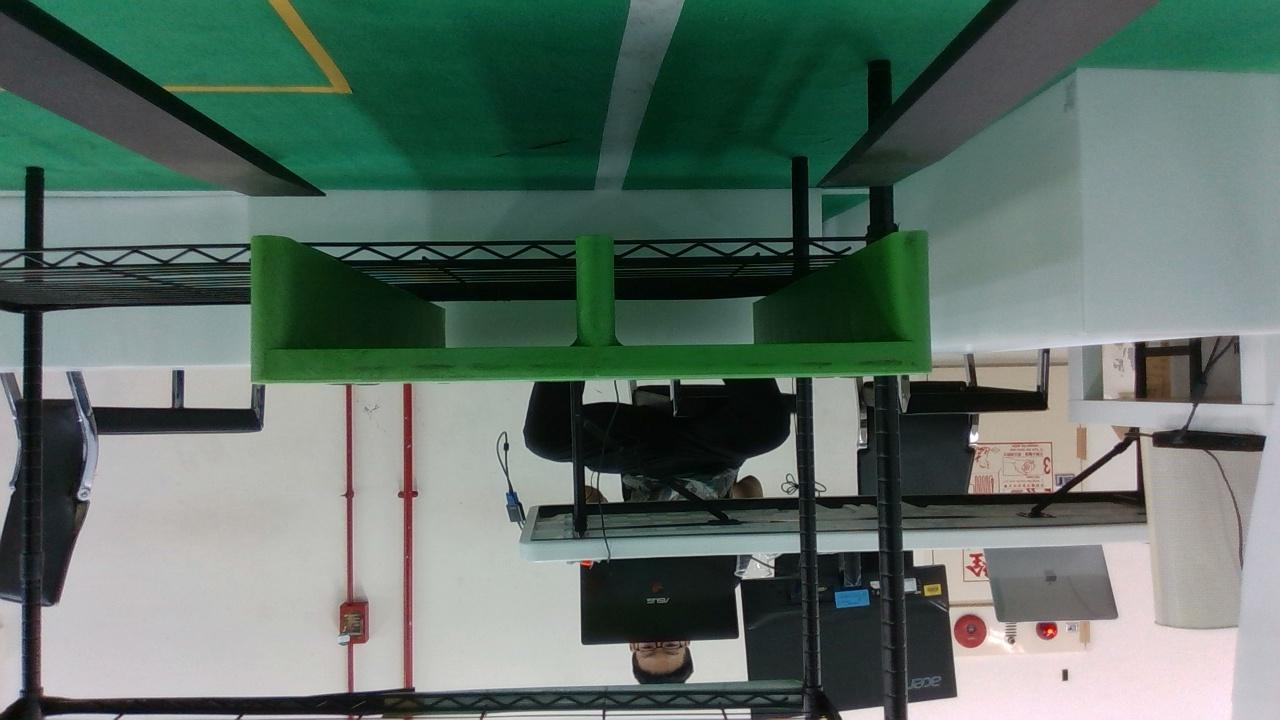Pallet: (251, 232, 933, 382)
